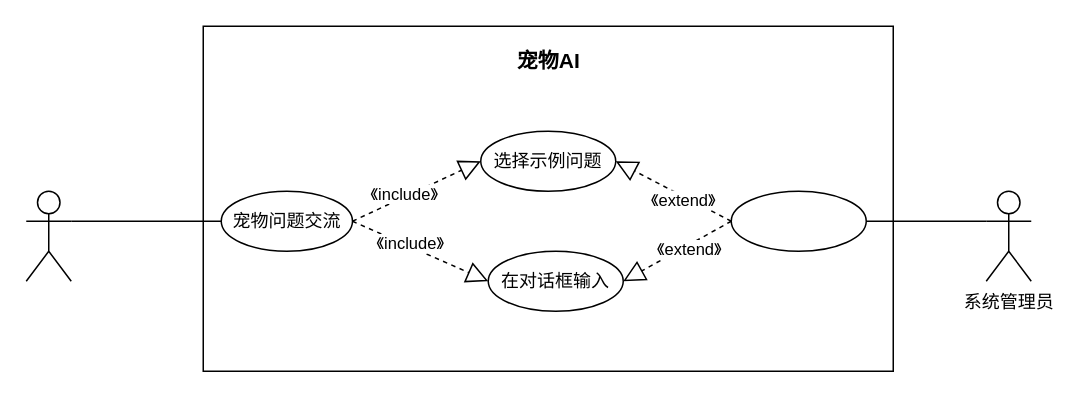
This 1080x398 diagram has some shape labels left out. The shapes that lost their labels are listed below. From the top down, each one's box as (x1, y1, x2, y2) in pixels, then its label:
(25, 190, 71, 281): 用户
(730, 190, 866, 251): 获得解答
